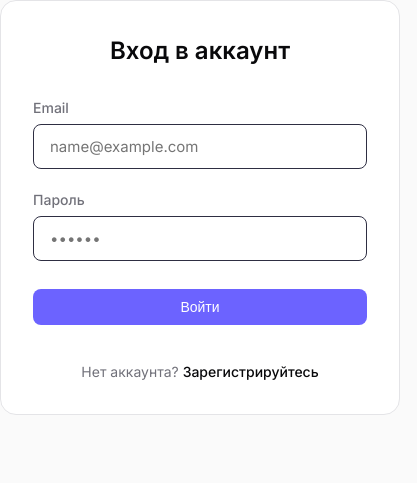
Test: Компонент LoginForm › показывает ошибки валидации Zod, если отправить пустую форму
The image size is (417, 483).
Click the button "Войти" at (200, 307), box [33,289,367,325]
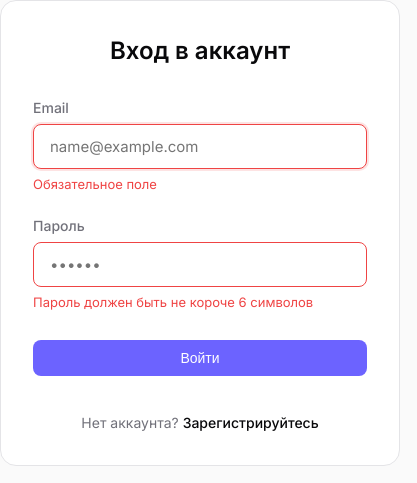
Result: the text "Обязательное поле" is shown at [33,176,157,192]
Result: the text "Пароль должен быть не короче 6 символов" is shown at [33,294,313,310]
